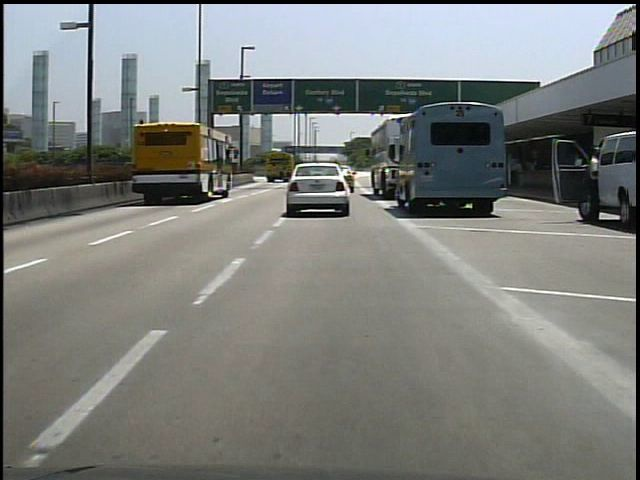person: (583, 139, 601, 228)
